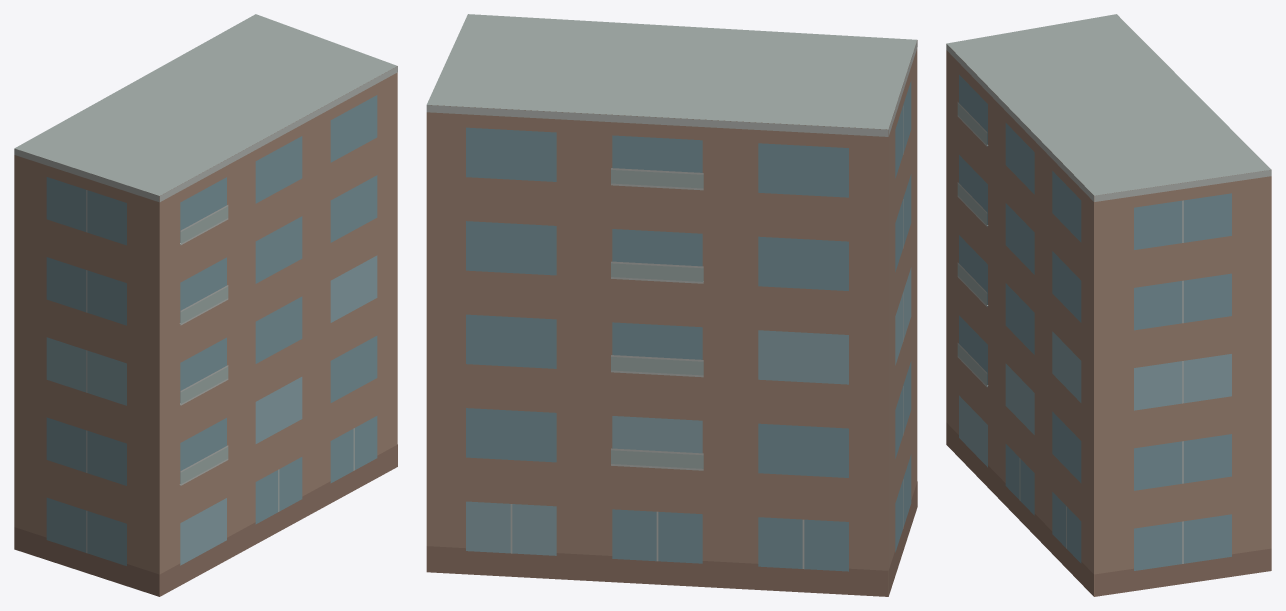
Rendered from residential-529d56cf-980c-4a66-9f35-263286ab53e8.glb.
The picture shows the model from 3 angles, left to right: view 1: azimuth 30°, elevation 25°; view 2: azimuth 150°, elevation 25°; view 3: azimuth 270°, elevation 25°; orthographic projection. The views are drawn at different scales.
Visible parts, largest first — view 1: residential-529d56cf-980c-4a66-9f35-263286ab53e8.tmp; view 2: residential-529d56cf-980c-4a66-9f35-263286ab53e8.tmp; view 3: residential-529d56cf-980c-4a66-9f35-263286ab53e8.tmp.
Boxes of the visible parts, x1,y1,x2,y2 form: residential-529d56cf-980c-4a66-9f35-263286ab53e8.tmp: (14, 14, 397, 596); residential-529d56cf-980c-4a66-9f35-263286ab53e8.tmp: (426, 14, 917, 596); residential-529d56cf-980c-4a66-9f35-263286ab53e8.tmp: (946, 14, 1271, 596).
Size of the model in its own units: 14.82 by 15.25 by 11.21.
